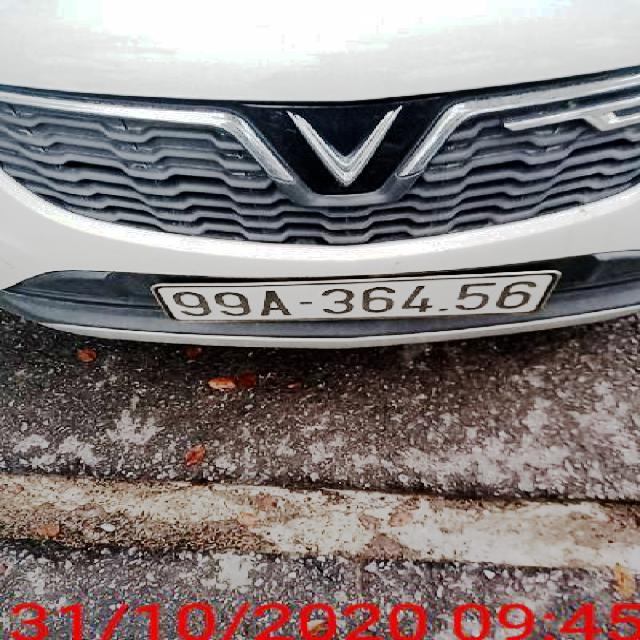license_plate: (159, 274, 558, 322)
